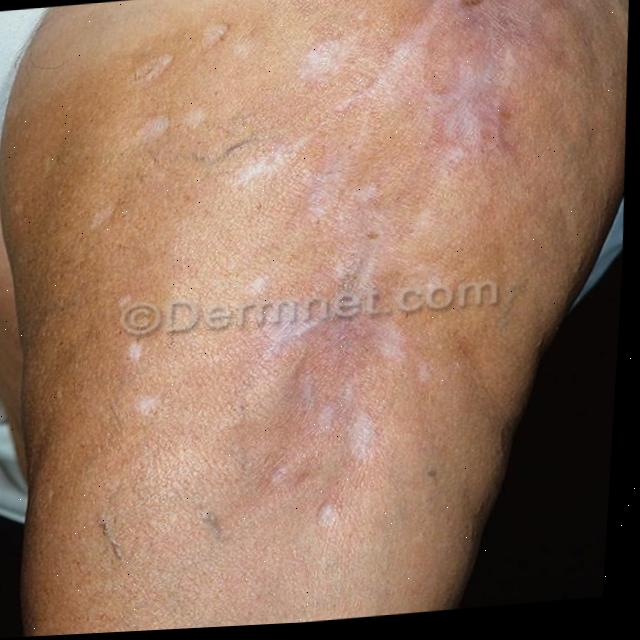Eczema: (79, 0, 640, 589)
